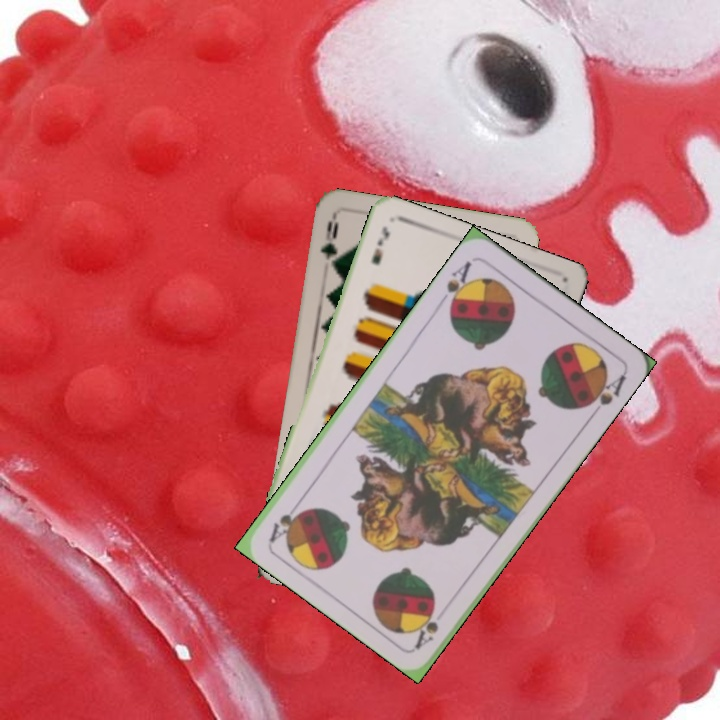E7: (367, 222, 392, 268)
G9: (316, 213, 341, 272)
SA: (442, 256, 476, 313), (411, 603, 441, 651)
